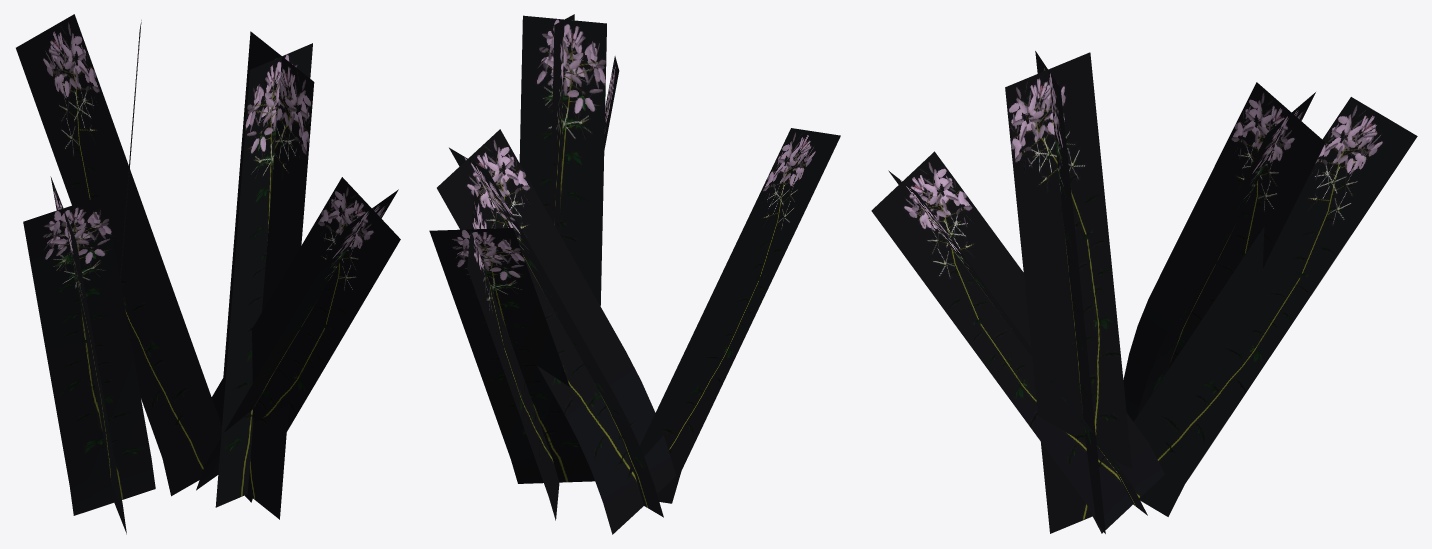
The model's file is flower.glb.
3 views of the same model, side by side, from view 1: azimuth 30°, elevation 25°; view 2: azimuth 150°, elevation 25°; view 3: azimuth 270°, elevation 25° (orthographic). The views are drawn at different scales.
Parts seen in each view (by area): view 1: Box01; view 2: Box01; view 3: Box01.
Boxes of the visible parts, x1,y1,x2,y2 form: Box01: (16, 14, 400, 534); Box01: (429, 14, 840, 534); Box01: (871, 51, 1417, 533).
Bounding box in the file's own units: 29.99 × 42.31 × 43.21.
1 material, 1 textured.
